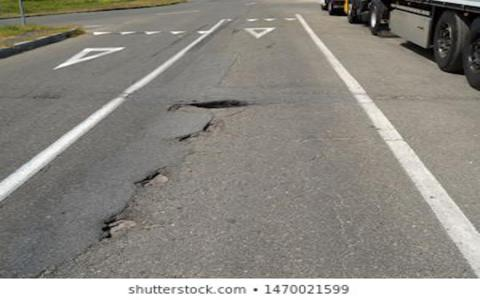patchy roads: (88, 88, 326, 242)
